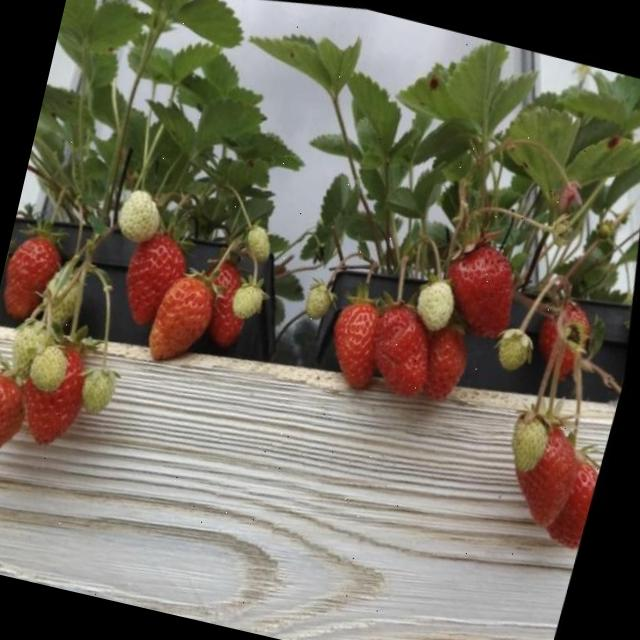ripe: (352, 290, 458, 430), (127, 262, 235, 395), (100, 220, 211, 348), (433, 230, 540, 358), (6, 338, 108, 470), (501, 408, 599, 544), (318, 287, 404, 409), (188, 256, 268, 373), (0, 224, 80, 339), (522, 294, 604, 394), (409, 317, 488, 419), (538, 443, 606, 558), (0, 358, 46, 484)
